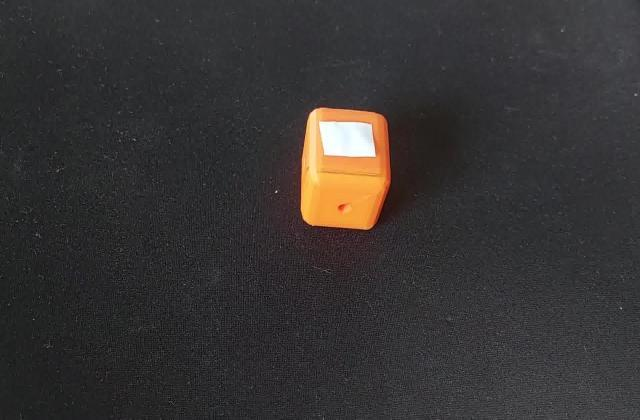sticker: (297, 102, 397, 236)
white: (316, 119, 380, 163)
